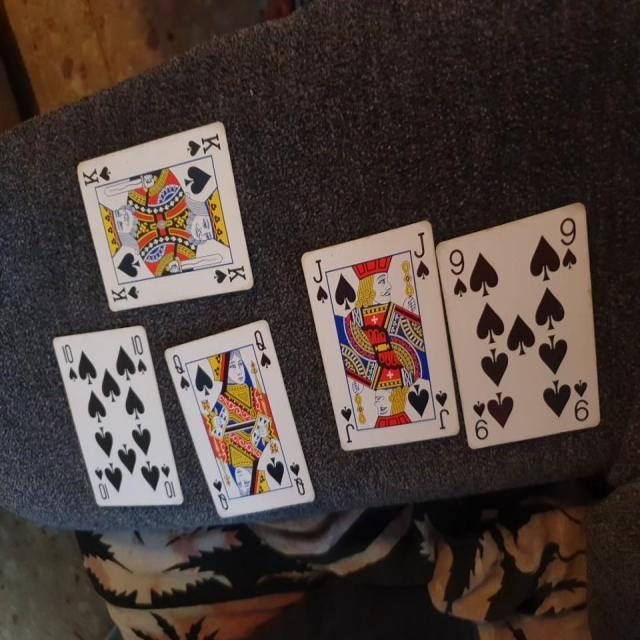10 of spades: (41, 322, 188, 516)
9 of spades: (436, 188, 608, 454)
jack of spades: (296, 220, 466, 467)
king of spades: (72, 122, 263, 312)
queen of spades: (164, 311, 318, 524)
